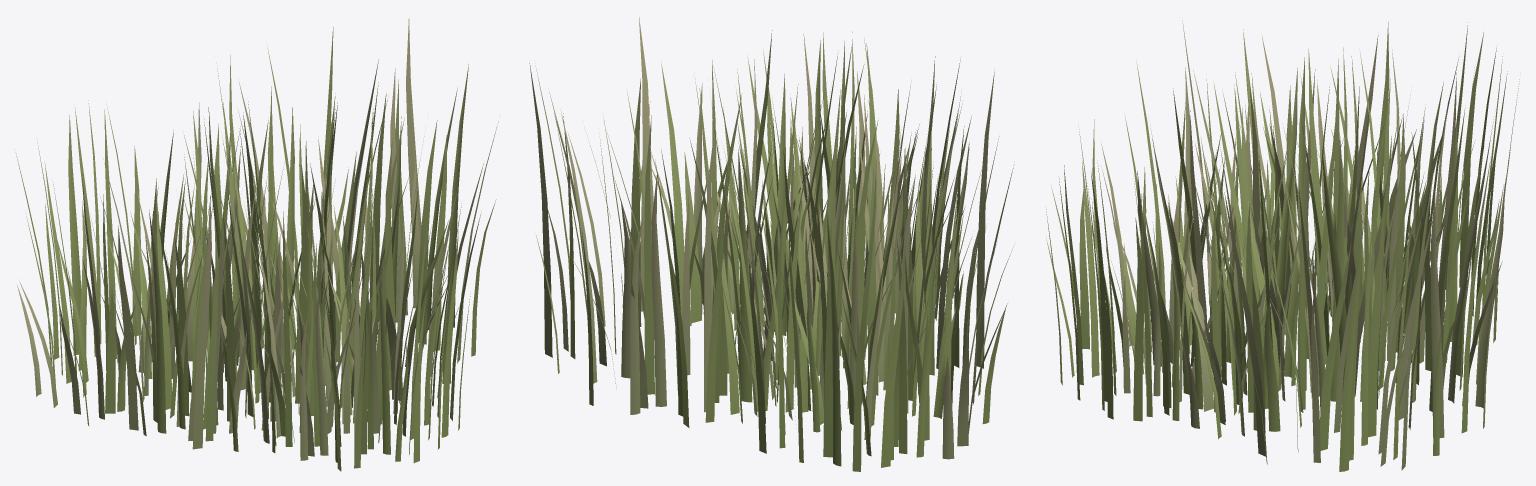
Rendered from grass-cluster.glb.
3 views of the same model, side by side, from view 1: azimuth 30°, elevation 25°; view 2: azimuth 150°, elevation 25°; view 3: azimuth 270°, elevation 25° (orthographic). The views are drawn at different scales.
Visible parts, largest first — view 1: Native canyon grass patch; view 2: Native canyon grass patch; view 3: Native canyon grass patch.
Part boxes in pixels (x1,y1,x2,y2): Native canyon grass patch: (15, 18, 498, 471); Native canyon grass patch: (529, 17, 1014, 471); Native canyon grass patch: (1046, 20, 1519, 471).
Bounding box in the file's own units: 1.7 × 1.08 × 1.52.
